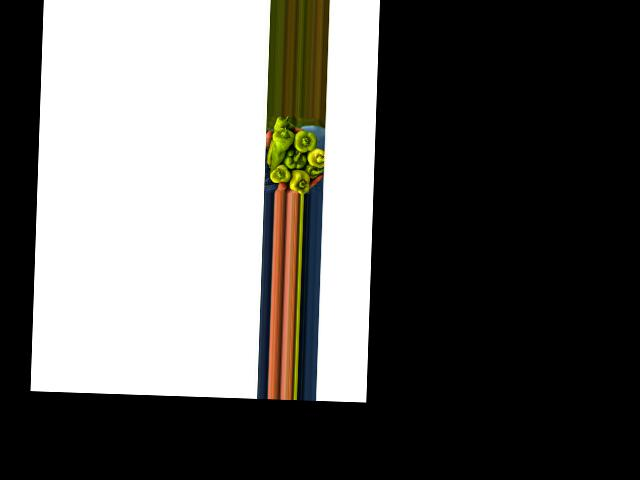bell_pepper: (290, 168, 312, 193)
